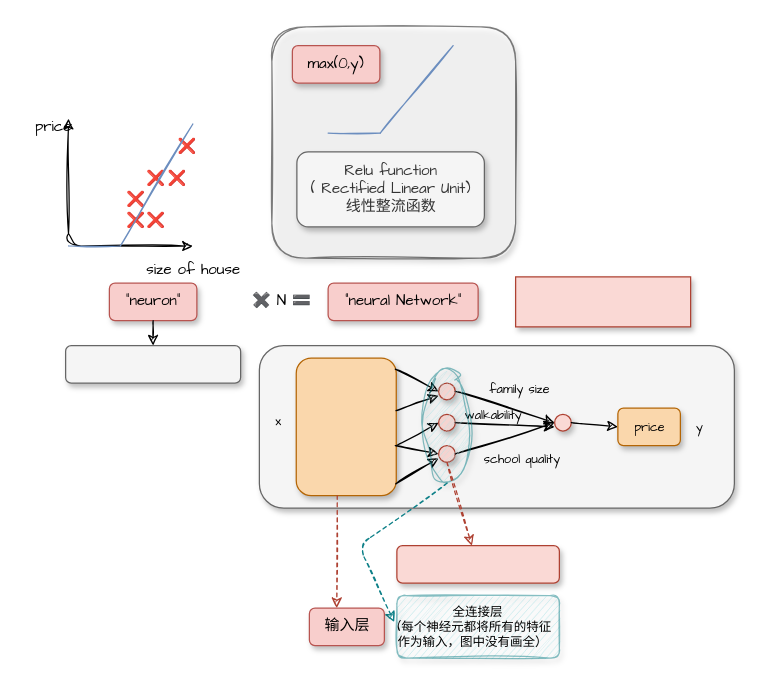
Image size: 764x689. Some labels were removed from this diagram. The centre of each missing label's shape, as x and y in pixels:
"hidden units 隐藏神经元" goes at point 479,565.
"size #bedrooms zip code wealth" goes at point 347,428.
"size ---> ⭕️ ---> price" goes at point 153,365.
"神经网络：拟合出一个函数 来建立x和y之间的映射关系" goes at point 603,303.
